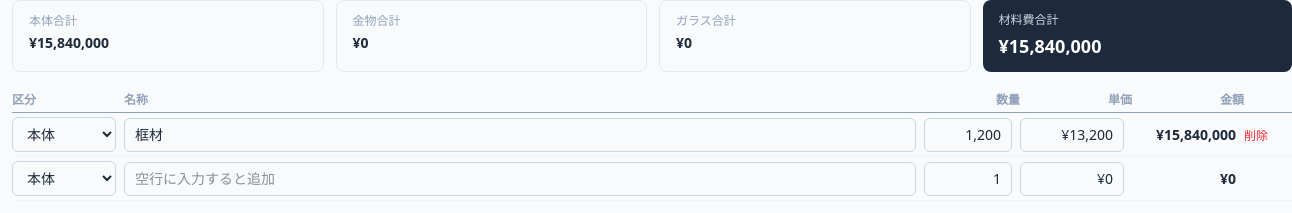
it: TateguCostLinesPanel › 数値入力は右寄せで、非フォーカス時に数量はコンマ、単価は円記号を表示する
Expected: the 1st field named "数量" holds "1,200", [924,118,1012,152]
Step 1. Focus the 1st field named "材料単価" → (1072, 134), box [1020,118,1124,152]
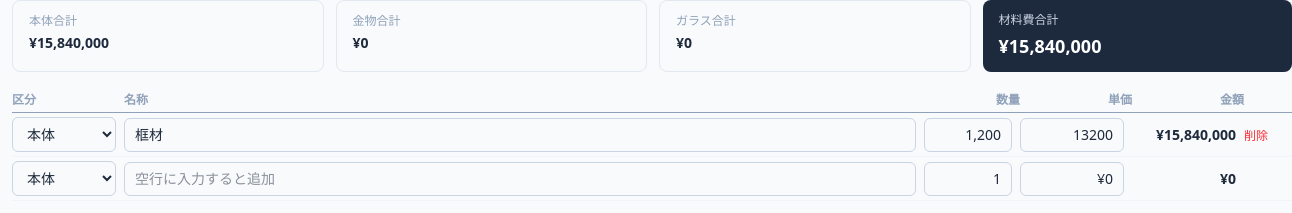
Expected: the 1st field named "材料単価" holds "13200", [1020,118,1124,152]
